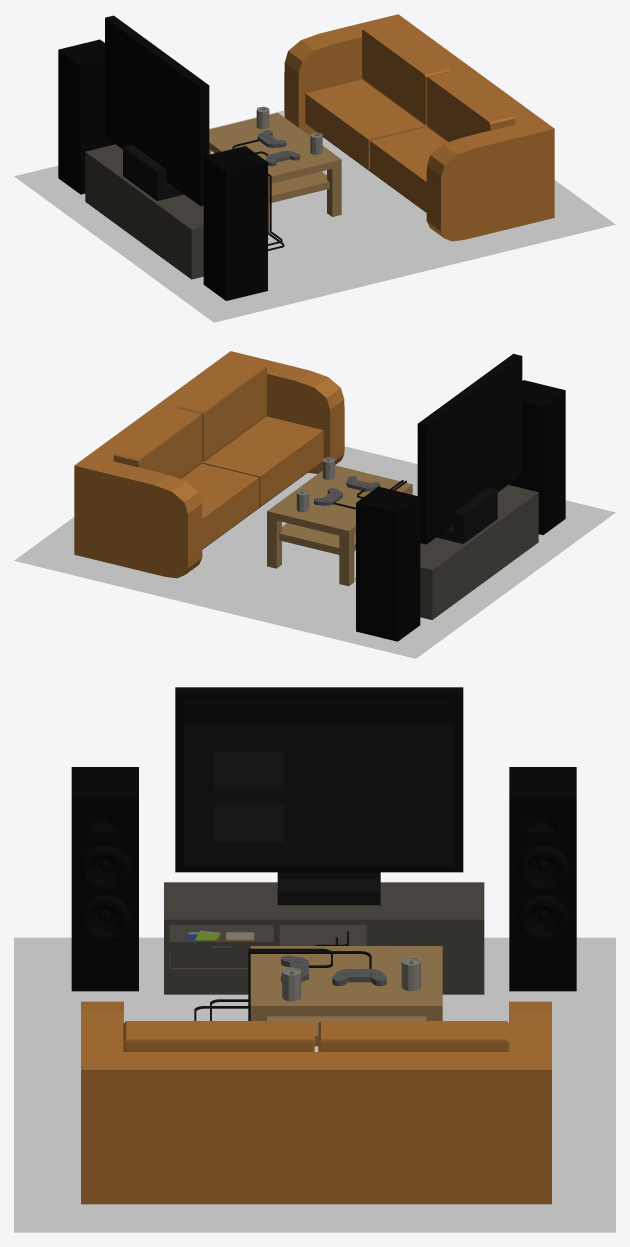
File: LivingRoom.gltf
The picture shows the model from 3 angles, top to bottom: view 1: azimuth 30°, elevation 25°; view 2: azimuth 150°, elevation 25°; view 3: azimuth 270°, elevation 25°; orthographic projection. The views are drawn at different scales.
Visible parts, largest first — view 1: node-0; view 2: node-0; view 3: node-0.
Boxes of the visible parts, <box> form: node-0: <box>14,14,615,322</box>; node-0: <box>14,351,615,658</box>; node-0: <box>14,687,615,1232</box>.
Bounding box in the file's own units: 5.3 × 2.35 × 4.57.
